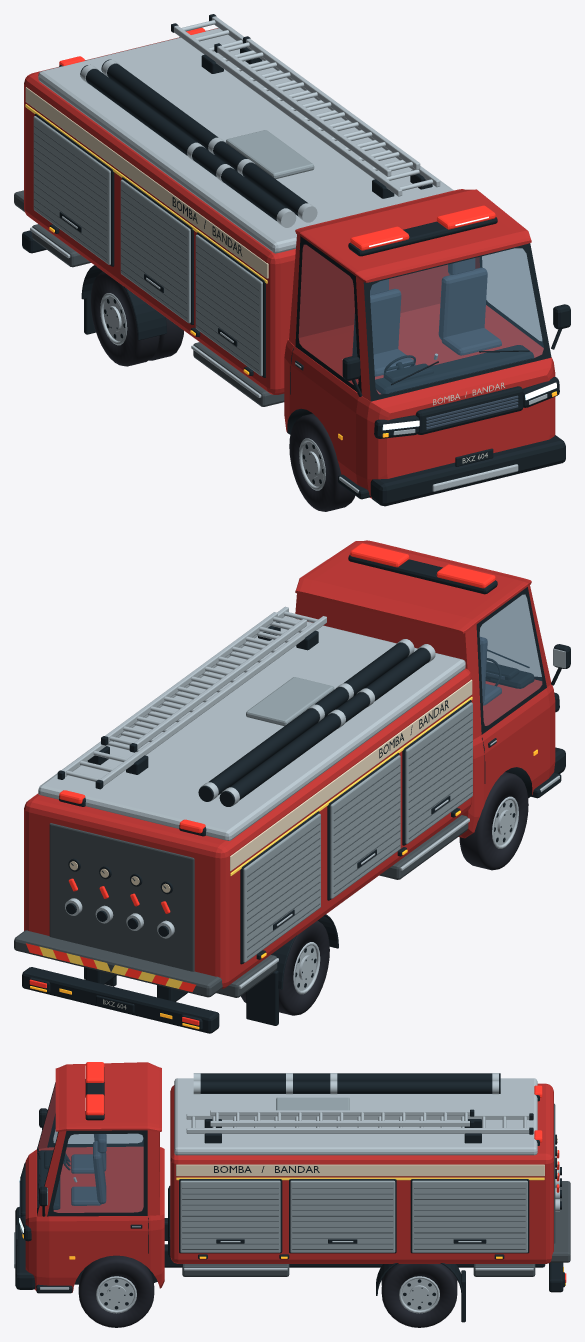
The picture shows the model from 3 angles, top to bottom: view 1: azimuth 30°, elevation 25°; view 2: azimuth 150°, elevation 25°; view 3: azimuth 270°, elevation 25°; orthographic projection. The views are drawn at different scales.
Parts seen in each view (by area): view 1: Bandar Municipal Fire Pumper; view 2: Bandar Municipal Fire Pumper; view 3: Bandar Municipal Fire Pumper.
Part boxes in pixels (bbox=[...]): Bandar Municipal Fire Pumper: bbox=[14, 14, 570, 511]; Bandar Municipal Fire Pumper: bbox=[14, 540, 570, 1033]; Bandar Municipal Fire Pumper: bbox=[14, 1062, 570, 1327].
Bounding box in the file's own units: 2.69 × 3.09 × 7.54.
